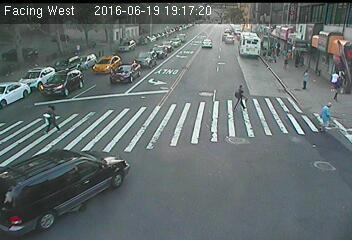neg: (166, 41, 188, 70), (215, 71, 236, 100), (238, 36, 257, 62), (100, 48, 118, 71), (112, 13, 128, 34), (197, 31, 212, 51), (130, 51, 143, 68), (24, 61, 36, 76), (67, 70, 78, 85), (153, 34, 163, 46)
pos: (37, 99, 62, 132), (226, 80, 250, 113), (315, 102, 335, 129), (299, 65, 318, 90), (289, 46, 305, 66), (278, 51, 291, 69), (70, 42, 81, 56)
